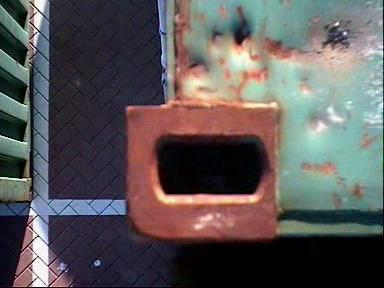groundmarker_2: (165, 1, 235, 114)
